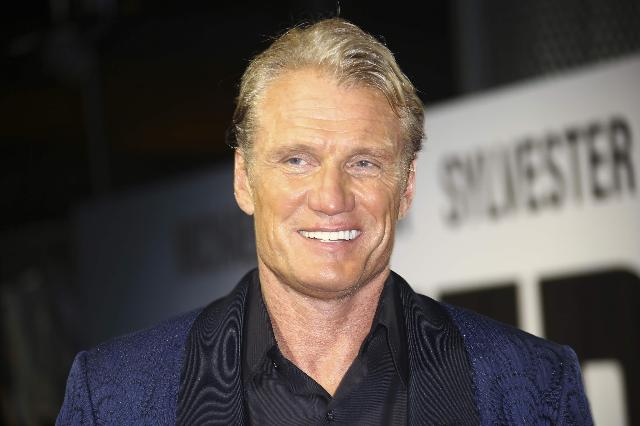crows_feet: (379, 159, 396, 185), (260, 156, 280, 170)
forehead: (296, 111, 336, 134)
masseter: (380, 208, 396, 248), (364, 242, 381, 274), (264, 223, 280, 253)
